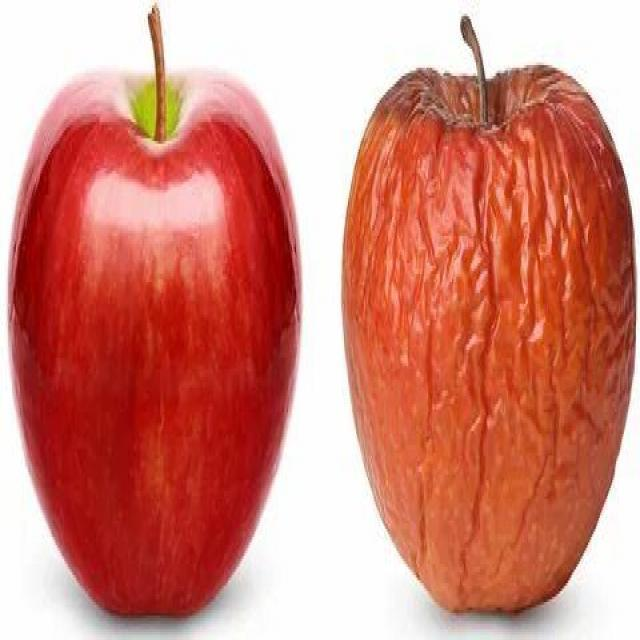Fresh Apple: (25, 70, 295, 623)
Rotten: (350, 66, 627, 626)
